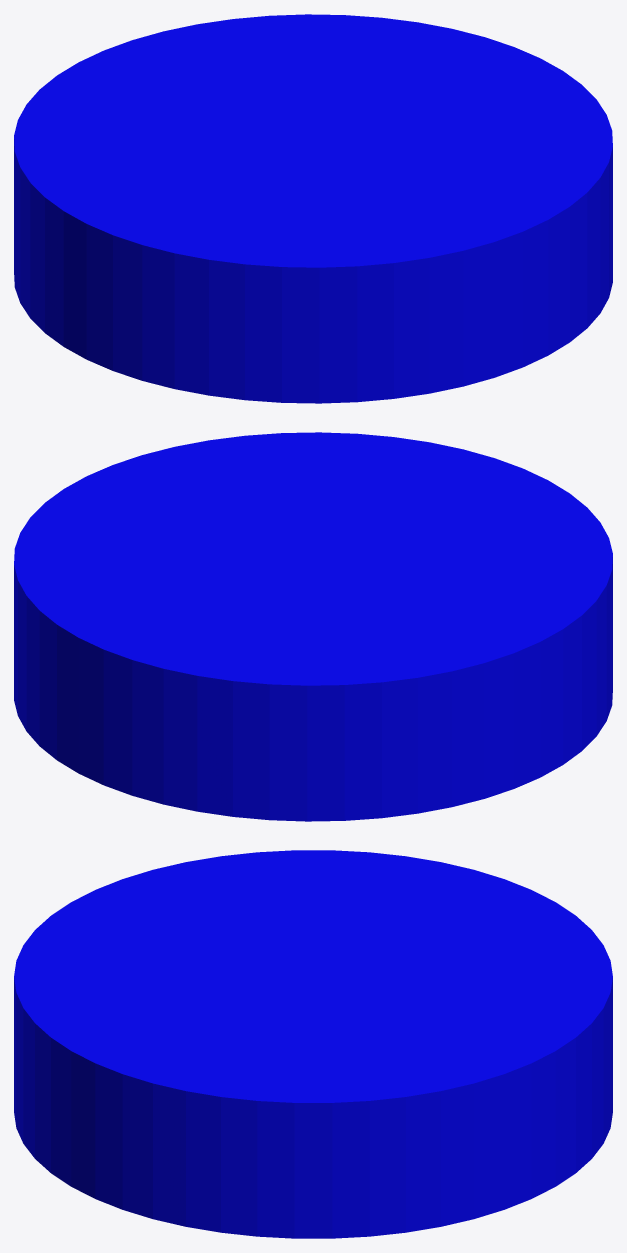
The picture shows the model from 3 angles, top to bottom: view 1: azimuth 30°, elevation 25°; view 2: azimuth 150°, elevation 25°; view 3: azimuth 270°, elevation 25°; orthographic projection.
Visible parts, largest first — view 1: Cylinder; view 2: Cylinder; view 3: Cylinder.
Part boxes in pixels (x1,y1,x2,y2): Cylinder: (14,14,612,403); Cylinder: (14,432,612,821); Cylinder: (14,850,612,1238).
Size of the model in its own units: 0.1996 by 0.05 by 0.2.
